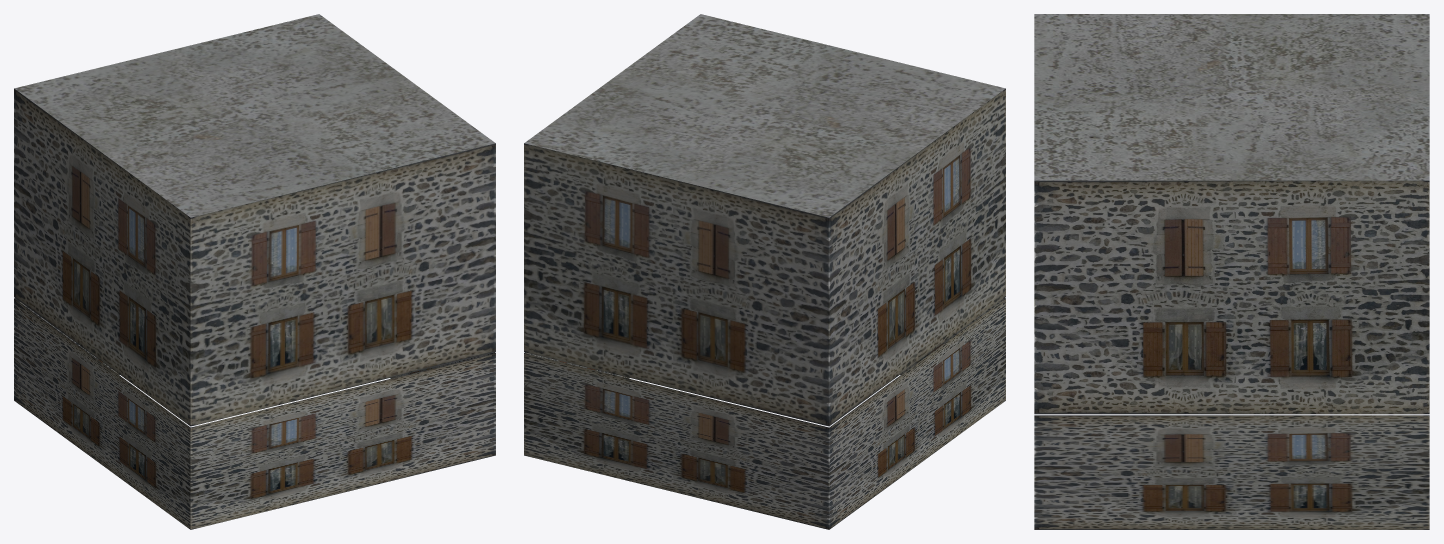
Rendered from BagBuilding15_0.fbx.
The picture shows the model from 3 angles, left to right: view 1: azimuth 30°, elevation 25°; view 2: azimuth 150°, elevation 25°; view 3: azimuth 270°, elevation 25°; orthographic projection. The views are drawn at different scales.
Parts seen in each view (by area): view 1: BoxMainFlip0, Roof0, BoxMain0, BoxMainFlipA0, BoxMainA0; view 2: BoxMainFlip0, Roof0, BoxMain0, BoxMainFlipA0, BoxMainA0; view 3: BoxMain0, Roof0, BoxMainA0.
Boxes of the visible parts, x1,y1,x2,y2 form: BoxMainFlip0: (190,143,495,426); Roof0: (14,14,495,217); BoxMain0: (14,88,190,426); BoxMainFlipA0: (14,298,495,529); BoxMainA0: (14,298,495,529); BoxMainFlip0: (524,143,829,426); Roof0: (524,14,1005,217); BoxMain0: (829,88,1005,426); BoxMainFlipA0: (524,298,1005,529); BoxMainA0: (524,298,1005,529); BoxMain0: (1034,180,1429,414); Roof0: (1034,14,1429,180); BoxMainA0: (1034,415,1429,529).
Bounding box in the file's own units: 16.72 × 16.35 × 16.76.
